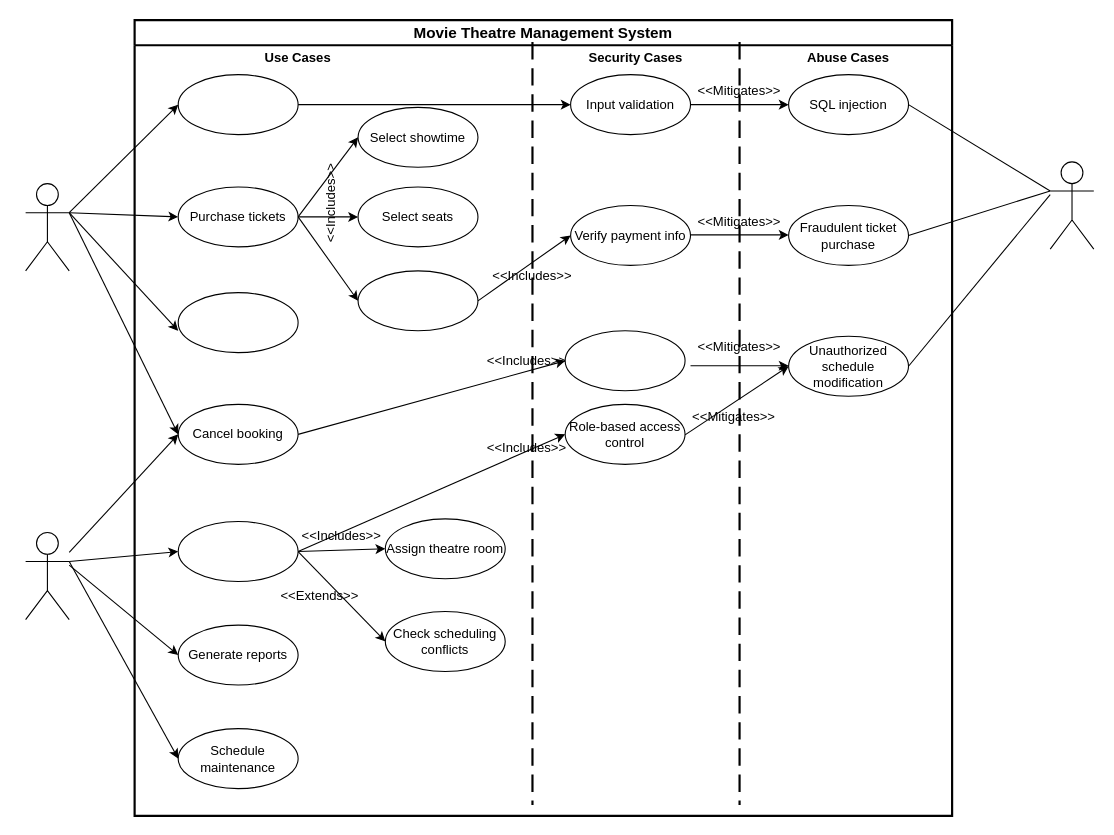
This 1114x835 diagram has some shape labels left out. Here are the shapes that lost their labels. From the top down, the centre of each, then its label:
At pixel 237 104: "Search Available movies".
At pixel 1071 205: "Attacker".
At pixel 47 227: "Customer".
At pixel 417 300: "Make payment".
At pixel 237 322: "View booking history".
At pixel 624 360: "Multi-factor authentication".
At pixel 237 551: "Schedule movie".
At pixel 47 575: "Manager".
